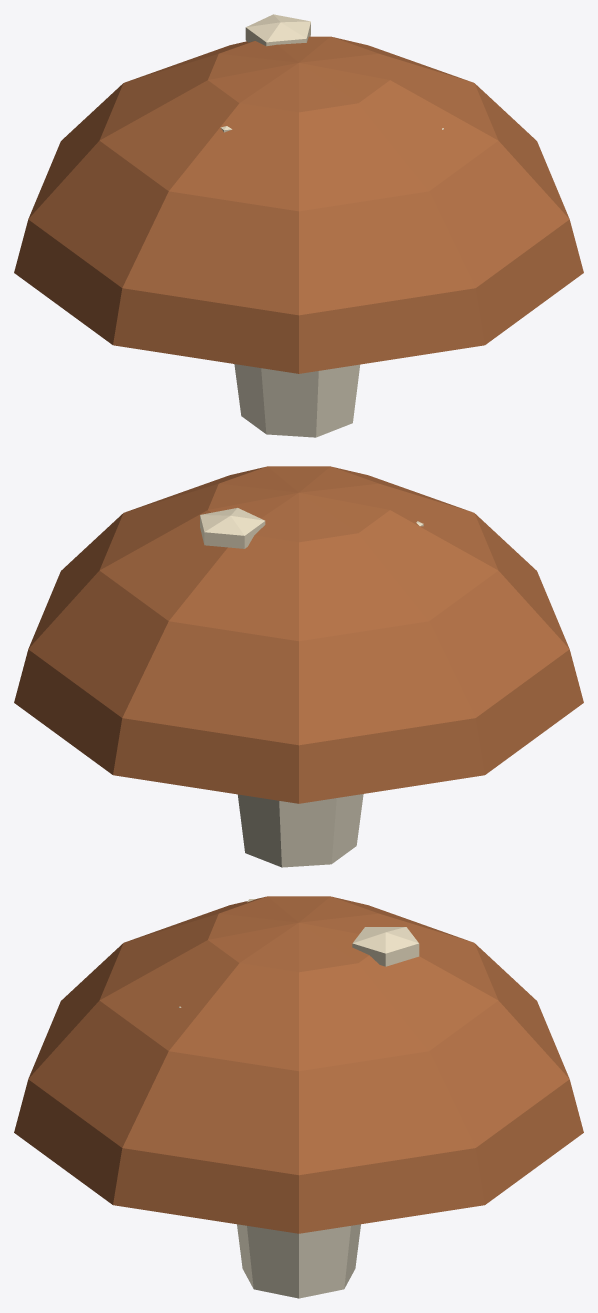
File: Food_Mushroom.obj
3 renders of one model, top to bottom at view 1: azimuth 30°, elevation 25°; view 2: azimuth 150°, elevation 25°; view 3: azimuth 270°, elevation 25°, orthographic.
Size of the model in its own units: 1.94 by 1.35 by 1.97.
